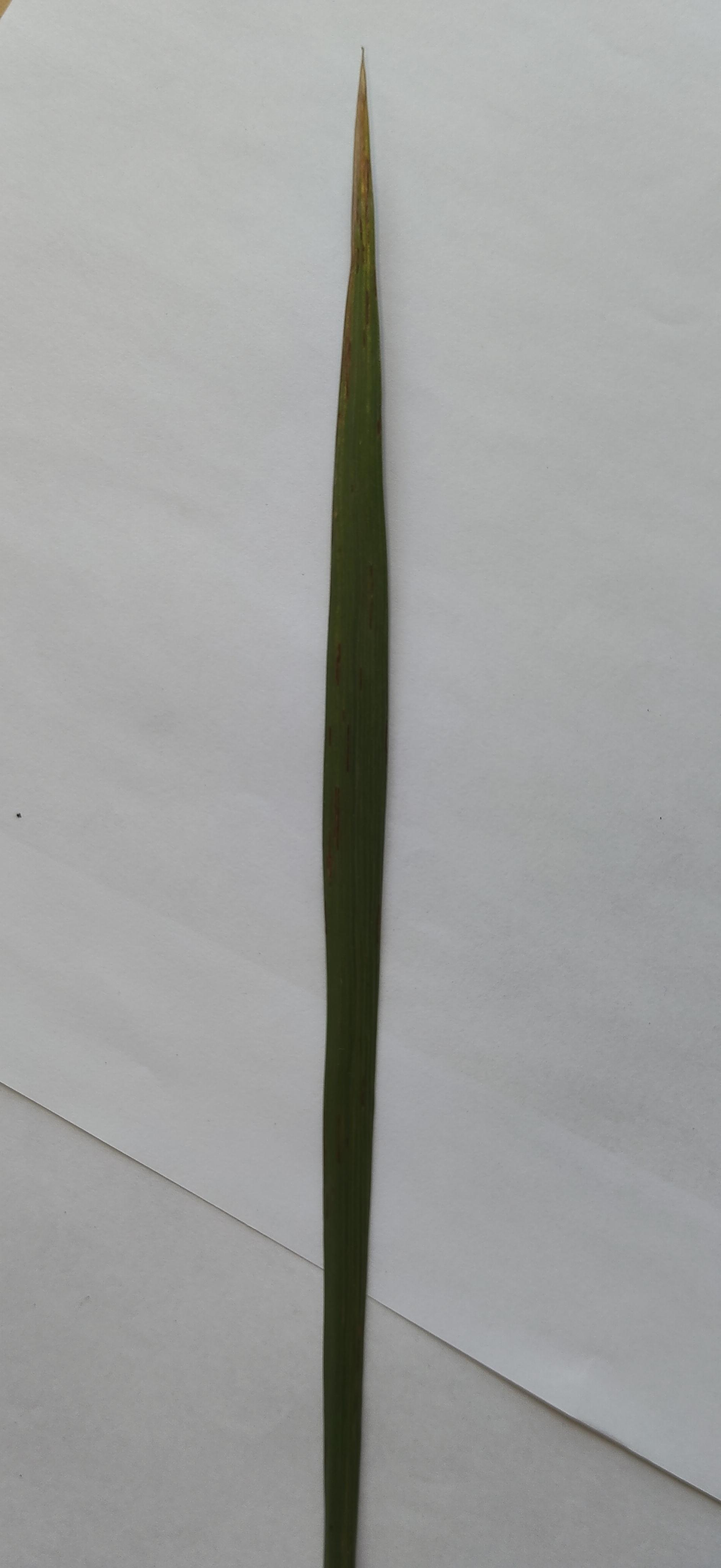NBS: (335, 788, 340, 849), (335, 643, 341, 684), (376, 904, 382, 944), (346, 726, 350, 771), (337, 1117, 341, 1162), (328, 831, 331, 878), (365, 290, 369, 324), (369, 602, 373, 629), (359, 668, 362, 689), (329, 728, 331, 746), (378, 420, 380, 434)
